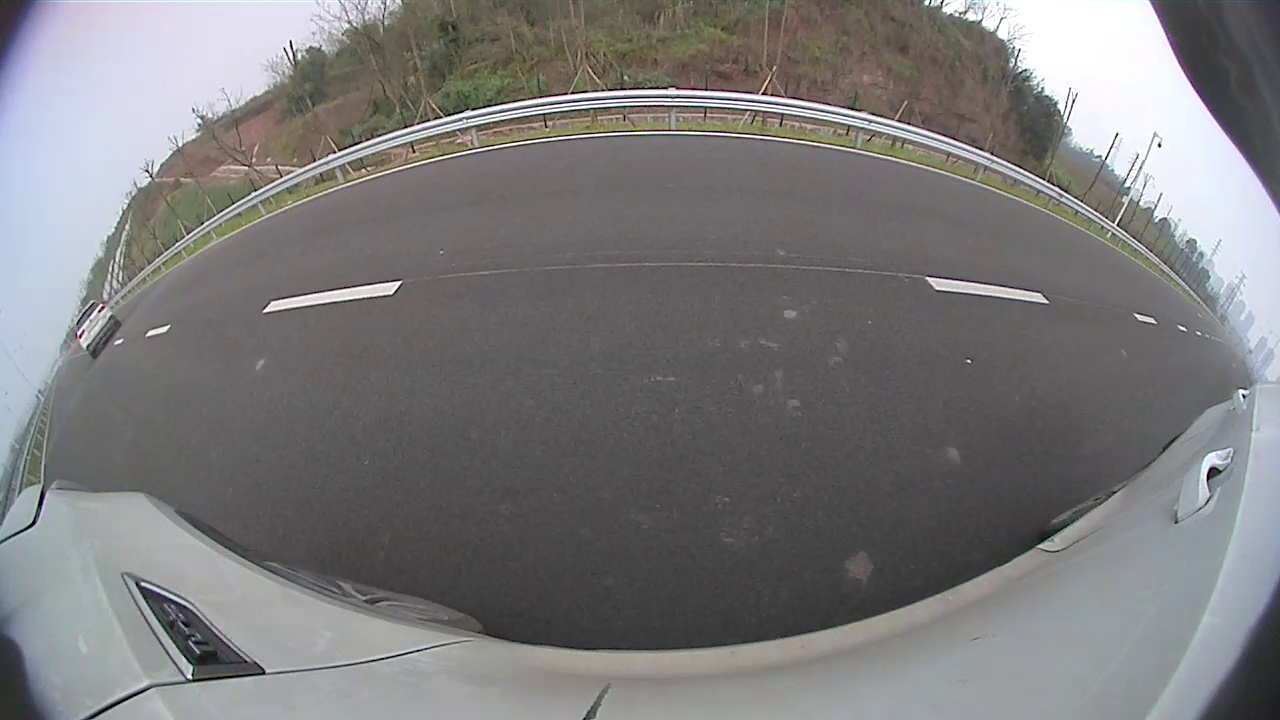car: (718, 149, 793, 198)
front: (716, 175, 727, 191)
rear: (734, 174, 744, 194)
